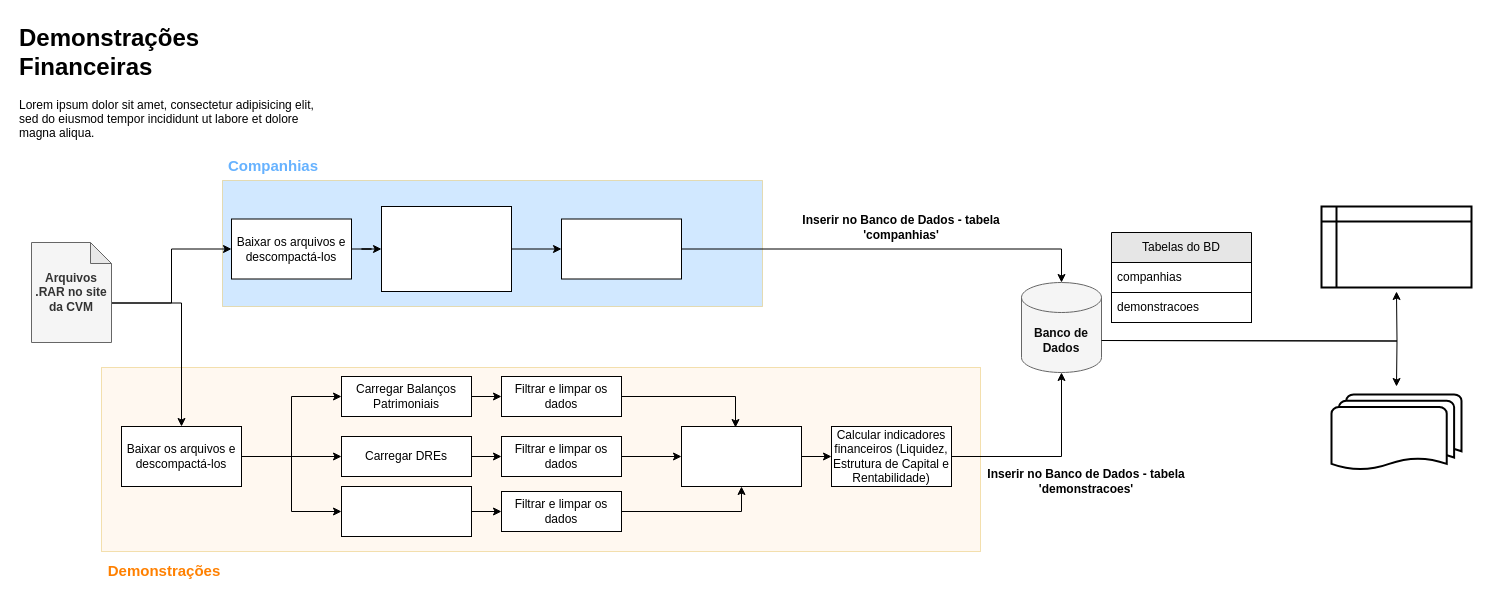
The diagram is 1489 pixels wide and 602 high, and some of its shapes have lost their labels. The shapes that lost their labels are listed below. From the top down, each one's centre as x and y in pixels, then its label:
At (x=446, y=249): "Carregar todos os arquivos referentes às companhias abertas (dfp_cia_aberta)".
At (x=621, y=248): "Remover duplicatas, criando uma lista com todas as empresas já listadas".
At (x=1396, y=246): "Relatórios Interativos (dashboards)".
At (x=1396, y=432): "Análises Ad-Hoc".
At (x=741, y=456): "Unir todas as demonstrações em uma única tabela".
At (x=406, y=511): "Carregar Demonstrações de Fluxo de Caixa".
